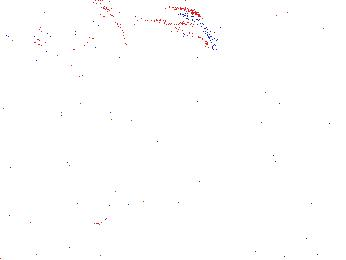moon jellyfish: (74, 14, 134, 134), (2, 1, 99, 54), (128, 8, 217, 62)
